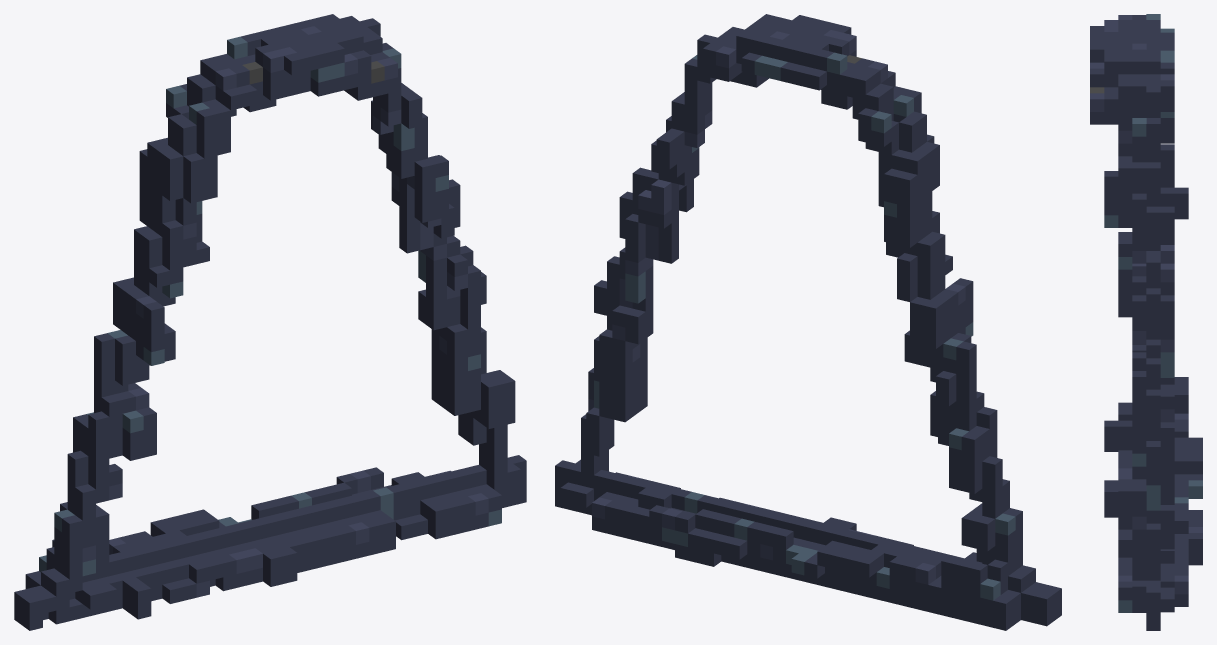
Rendered from Portal.obj.
3 views of the same model, side by side, from view 1: azimuth 30°, elevation 25°; view 2: azimuth 150°, elevation 25°; view 3: azimuth 270°, elevation 25° (orthographic). The views are drawn at different scales.
Size of the model in its own units: 3.8 by 3.8 by 0.8.
